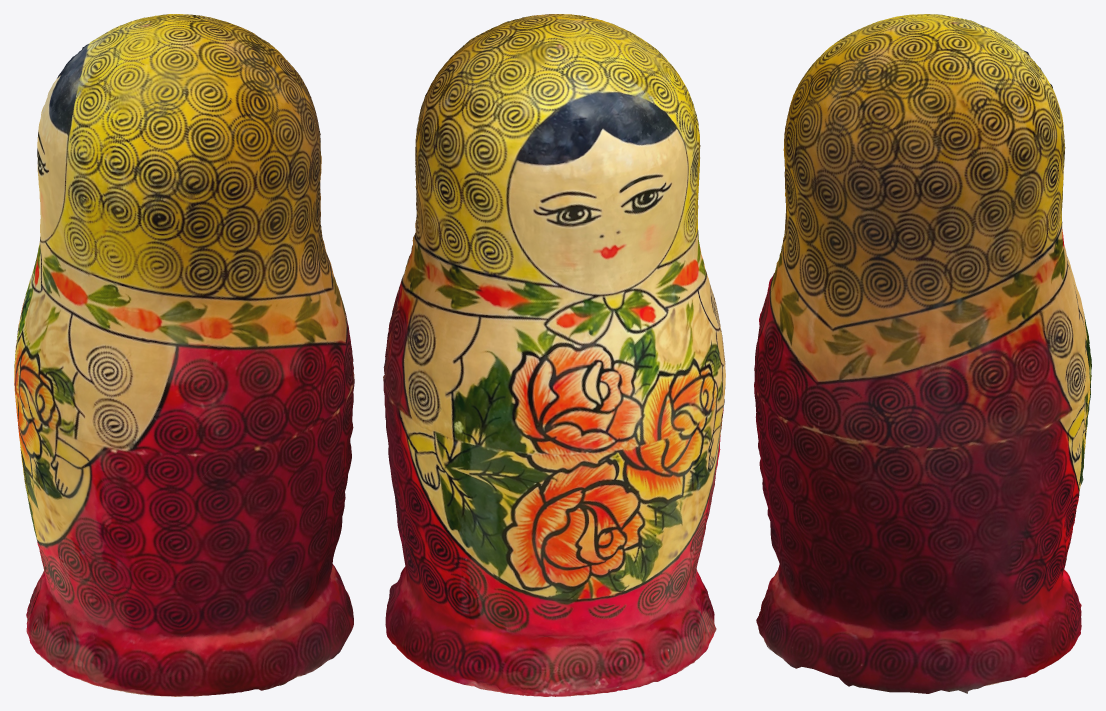
The model's file is russian_doll.glb.
3 views of the same model, side by side, from view 1: azimuth 30°, elevation 25°; view 2: azimuth 150°, elevation 25°; view 3: azimuth 270°, elevation 25° (orthographic).
Visible parts, largest first — view 1: Object_4; view 2: Object_4; view 3: Object_4.
Boxes of the visible parts, x1=… form: Object_4: x1=14, y1=14, x2=354, y2=696; Object_4: x1=383, y1=14, x2=725, y2=696; Object_4: x1=754, y1=14, x2=1091, y2=693.
Bounding box in the file's own units: 0.1175 × 0.2308 × 0.1179.
Materials: 1 (1 with a texture image).
